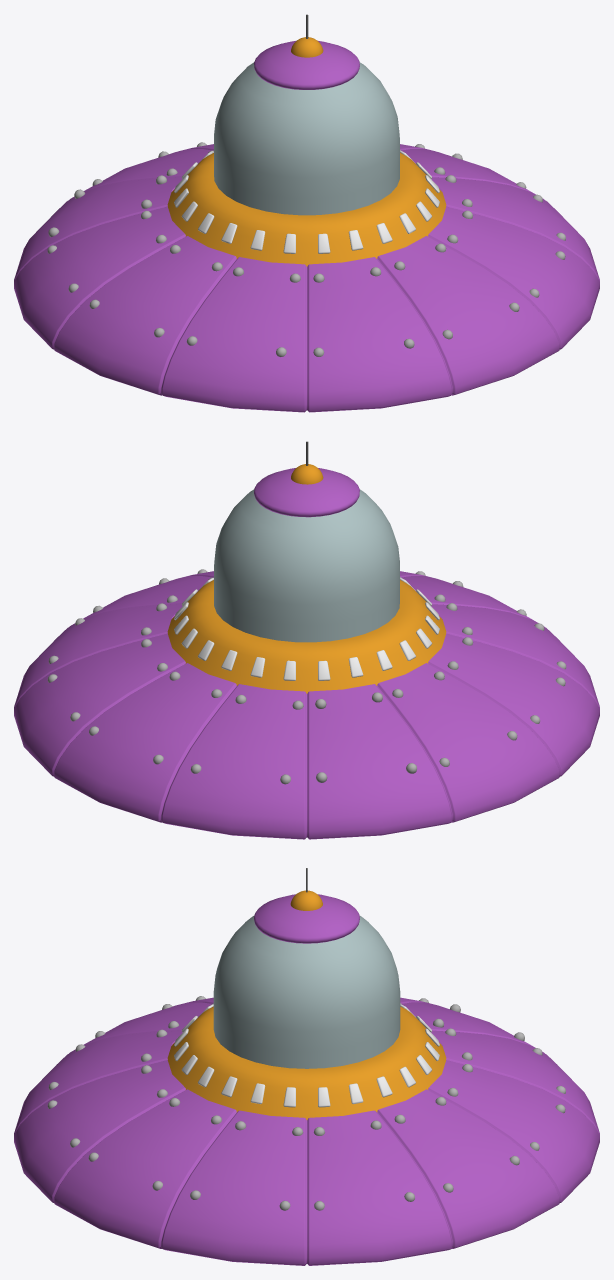
Rendered from UFOFinal.fbx.
The picture shows the model from 3 angles, top to bottom: view 1: azimuth 30°, elevation 25°; view 2: azimuth 150°, elevation 25°; view 3: azimuth 270°, elevation 25°; orthographic projection.
Parts seen in each view (by area): view 1: Circle, Sphere, Circle.002, Sphere.002, Circle.009, Sphere.003; view 2: Circle, Sphere, Circle.002, Sphere.002, Circle.009, Sphere.003; view 3: Circle, Sphere, Circle.002, Sphere.002, Circle.009, Sphere.003.
Part boxes in pixels (<box>): Circle: <box>14,144,599,412</box>; Sphere: <box>214,62,399,215</box>; Circle.002: <box>167,153,446,266</box>; Sphere.002: <box>254,40,359,89</box>; Circle.009: <box>174,151,439,253</box>; Sphere.003: <box>291,37,323,57</box>; Circle: <box>14,571,599,839</box>; Sphere: <box>214,489,399,642</box>; Circle.002: <box>167,580,446,693</box>; Sphere.002: <box>254,468,359,517</box>; Circle.009: <box>174,578,439,680</box>; Sphere.003: <box>291,464,323,484</box>; Circle: <box>14,997,599,1265</box>; Sphere: <box>213,916,400,1068</box>; Circle.002: <box>167,1006,446,1119</box>; Sphere.002: <box>254,894,359,943</box>; Circle.009: <box>174,1004,439,1107</box>; Sphere.003: <box>290,890,322,910</box>.
Bounding box in the file's own units: 896 × 643 × 896.
